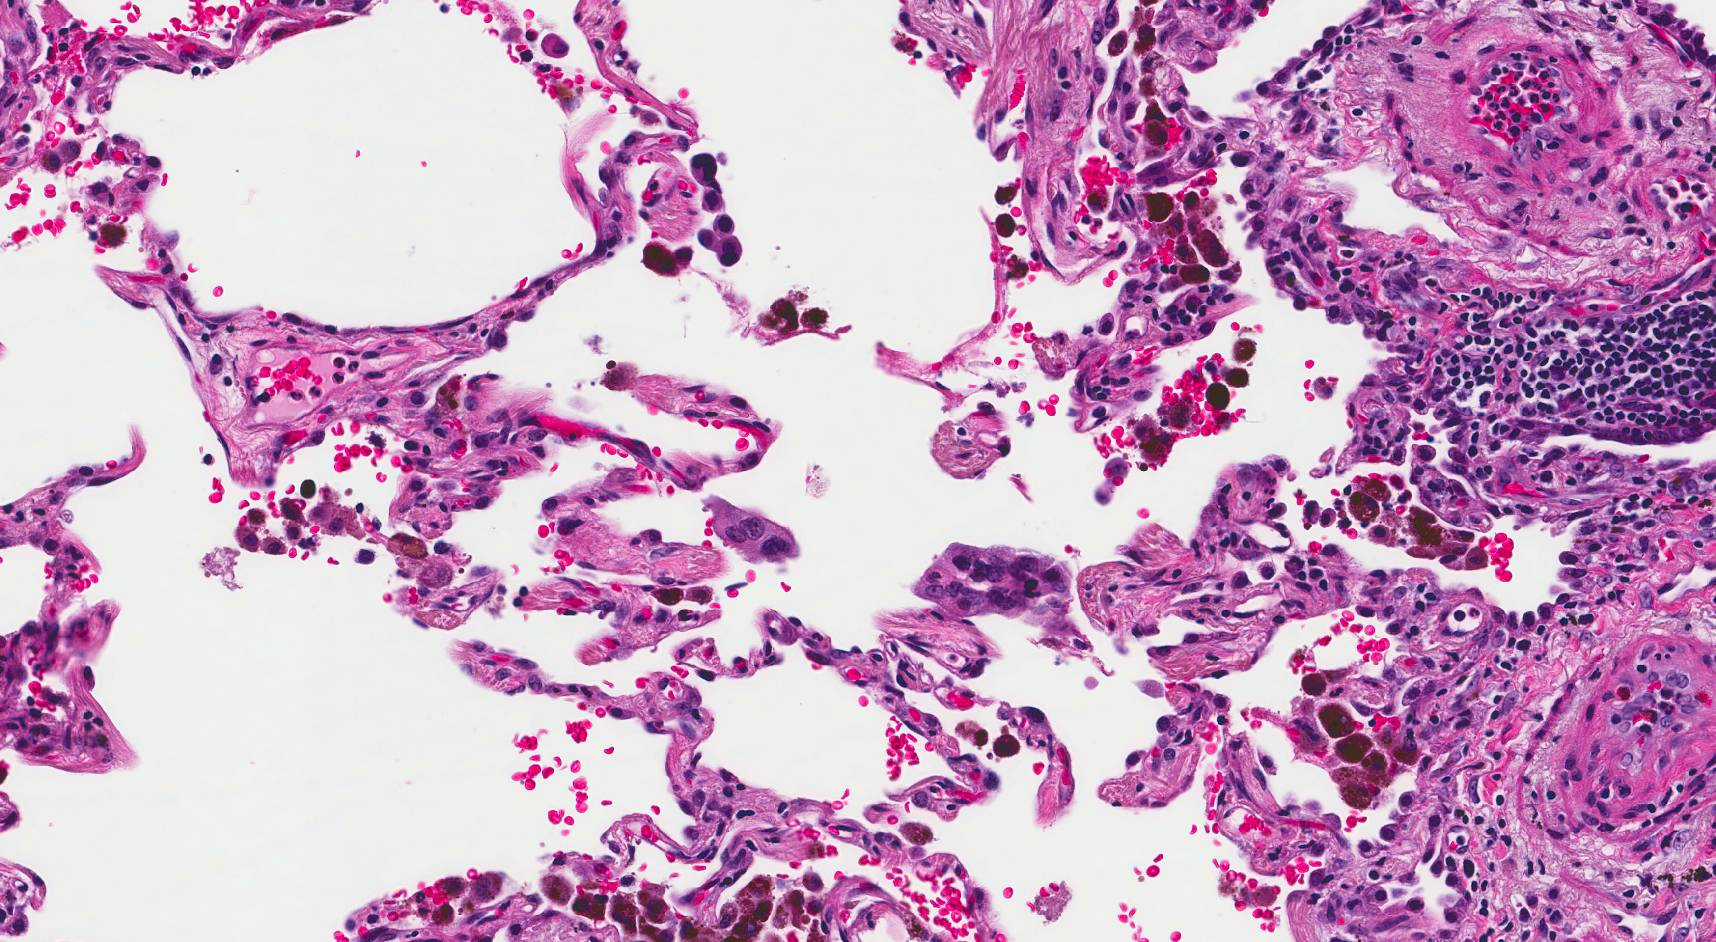stas: (912, 535, 1079, 622), (703, 493, 806, 571), (693, 152, 747, 265)
